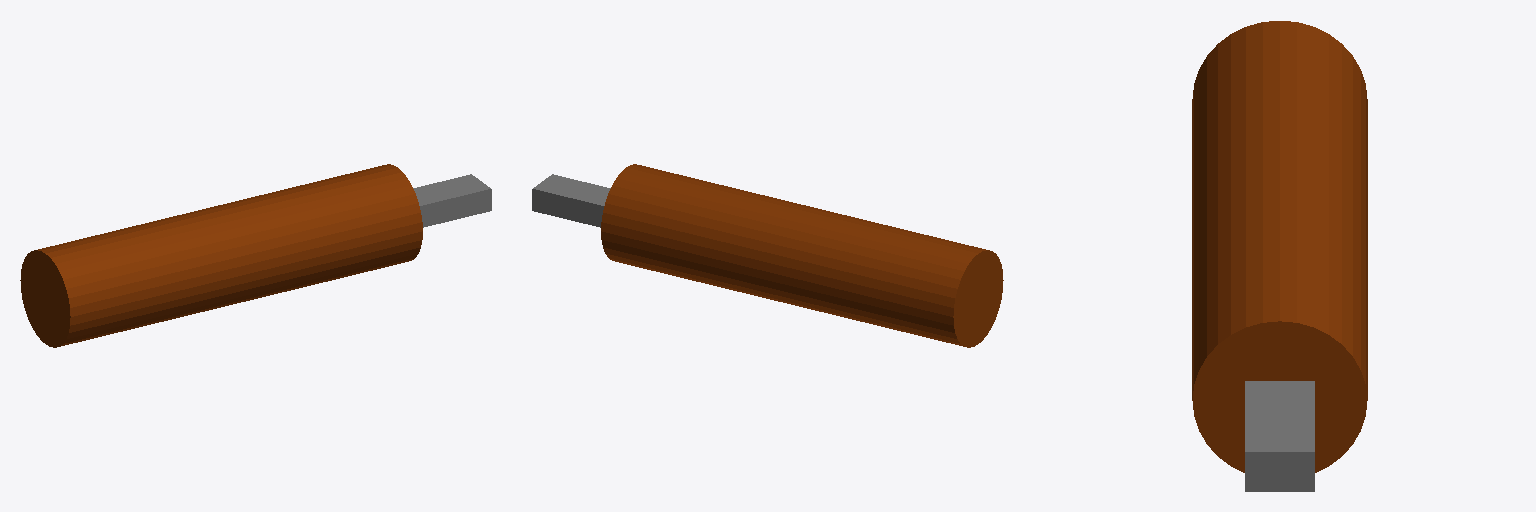
robot.urdf — handle_head:
<?xml version="1.0"?>
<robot name="handle_head">

  <link name="handle_head">
    <!-- Handle -->
    <visual>
              <origin xyz="0 0 0" rpy="0 -1.5707963267948966 0"/>
        <geometry>
          <cylinder length="0.10205477200193253" radius="0.012554928590007484"/>
        </geometry>
        
      <material name="brown">
        <color rgba="0.55 0.27 0.07 1.0"/>
      </material>
    </visual>
    <collision>
              <origin xyz="0 0 0" rpy="0 -1.5707963267948966 0"/>
        <geometry>
          <cylinder length="0.10205477200193253" radius="0.012554928590007484"/>
        </geometry>
        
    </collision>

    <!-- Head -->
    <visual>
              <origin xyz="0.06312678011047385 0 0" rpy="0 0 0"/>
        <geometry>
          <box size="0.024198788219015173 0.009982173414003929 0.006179444630351101"/>
        </geometry>
        
      <material name="gray">
        <color rgba="0.5 0.5 0.5 1.0"/>
      </material>
    </visual>
    <collision>
              <origin xyz="0.06312678011047385 0 0" rpy="0 0 0"/>
        <geometry>
          <box size="0.024198788219015173 0.009982173414003929 0.006179444630351101"/>
        </geometry>
        
    </collision>

    <inertial>
      <origin xyz="0.0015297775537102898 0 0" rpy="0 0 0"/>
      <mass value="0.03491799271779939"/>
      <inertia ixx="2.619344855456336e-06" iyy="4.500362130076614e-05" izz="4.5007955040850146e-05" ixy="0" ixz="0" iyz="0"/>
    </inertial>
  </link>

</robot>

--- What the picture shows (computed from the rendered views, not written in the file) ---
The picture shows the robot from 3 angles, left to right: view 1: azimuth 30°, elevation 25°; view 2: azimuth 150°, elevation 25°; view 3: azimuth 270°, elevation 25°; orthographic projection.
Model handle_head with 1 links and 0 joints (none), rooted at handle_head, posed all joints at 0.
Links seen in each view (by area): view 1: handle_head; view 2: handle_head; view 3: handle_head.
Boxes of the visible links, <box> form: handle_head: <box>20,164,491,347</box>; handle_head: <box>532,164,1003,347</box>; handle_head: <box>1192,21,1367,491</box>.
Bounding box of the posed robot: 0.1263 × 0.0251 × 0.0251 m (x, y, z).
Geometry: primitives only (box / cylinder / sphere), no mesh files.
